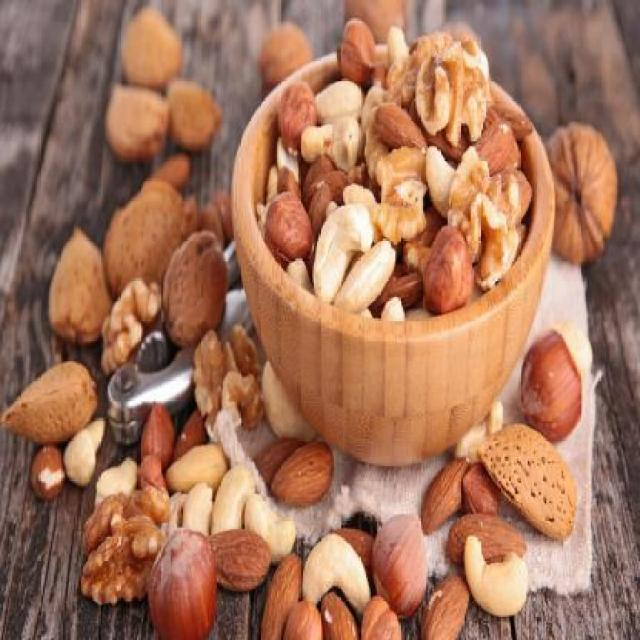Frutta secca: (268, 36, 520, 316), (303, 420, 575, 638), (96, 418, 298, 640)
